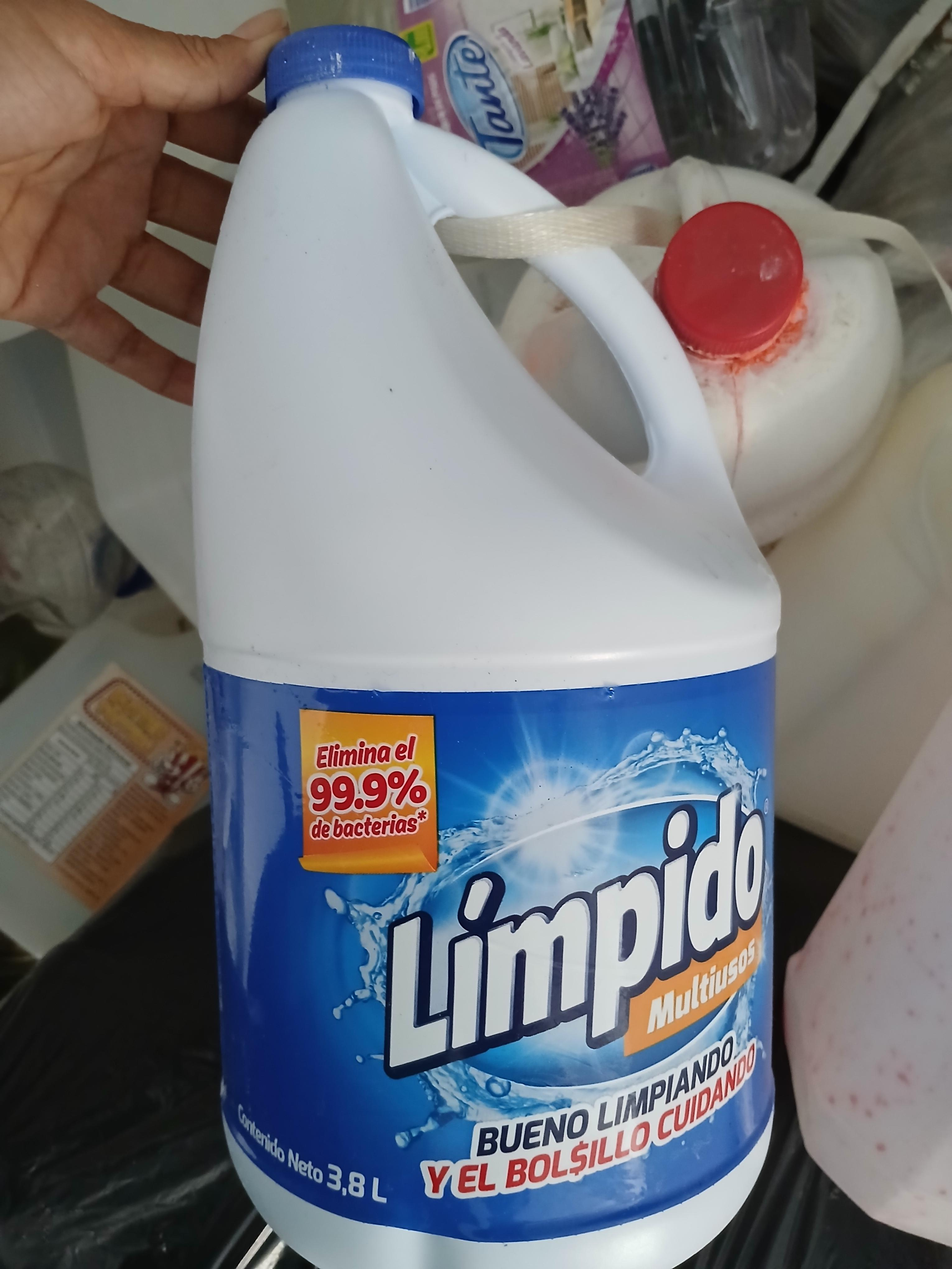Plastico: (189, 27, 781, 1269)
